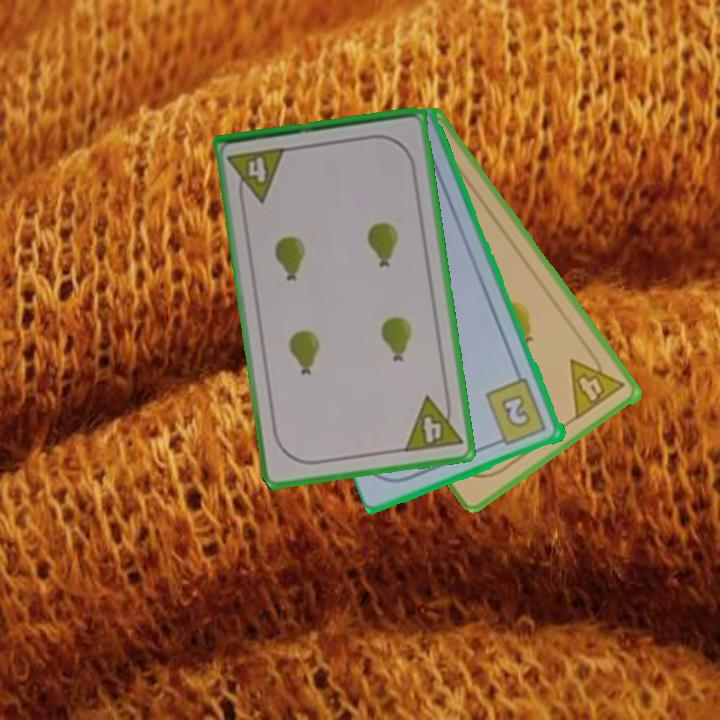2b: (482, 375, 550, 449)
4p: (566, 345, 628, 423), (400, 390, 465, 455), (224, 144, 289, 207)
